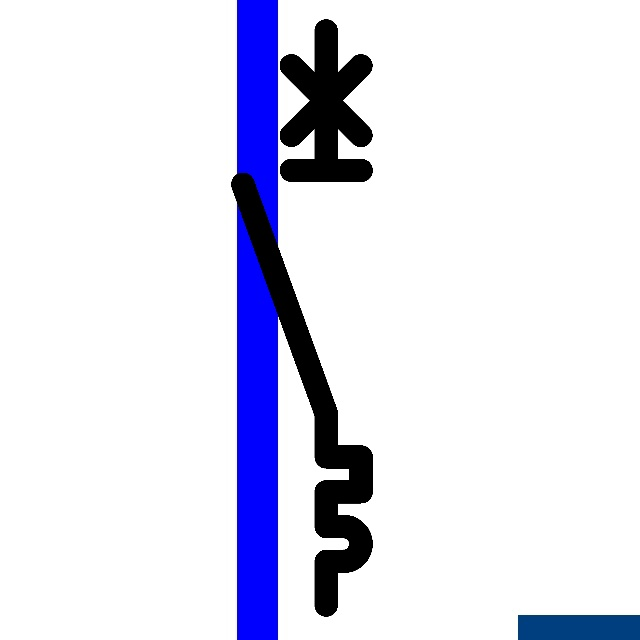interruptor_termomagnetico: (228, 16, 376, 620)
